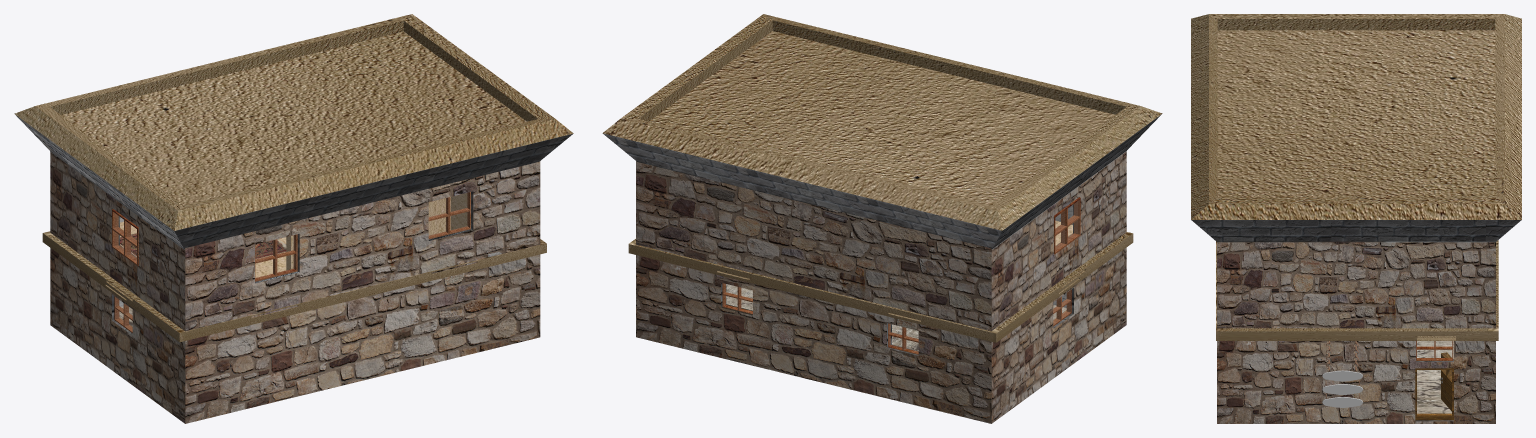
The model's file is EvCetinYazici.fbx.
3 views of the same model, side by side, from view 1: azimuth 30°, elevation 25°; view 2: azimuth 150°, elevation 25°; view 3: azimuth 270°, elevation 25° (orthographic). The views are drawn at different scales.
Parts seen in each view (by area): view 1: ev, Taban1, aratut, Tavan, polySurface124, polySurface127, polySurface126, halı; view 2: ev, Taban1, aratut, Taban, polySurface124; view 3: Taban1, ev, aratut, Taban, tabela1, kapı1, kapı2, polySurface121.
Boxes of the visible parts, x1=… form: ev: x1=50, y1=152, x2=540, y2=423; Taban1: x1=14, y1=14, x2=573, y2=249; aratut: x1=42, y1=231, x2=546, y2=342; Tavan: x1=120, y1=193, x2=467, y2=277; polySurface124: x1=112, y1=209, x2=138, y2=266; polySurface127: x1=255, y1=234, x2=297, y2=281; polySurface126: x1=428, y1=192, x2=470, y2=239; halı: x1=120, y1=233, x2=286, y2=258; ev: x1=636, y1=151, x2=1126, y2=423; Taban1: x1=602, y1=14, x2=1162, y2=249; aratut: x1=628, y1=232, x2=1133, y2=342; Taban: x1=726, y1=284, x2=1066, y2=350; polySurface124: x1=1054, y1=197, x2=1080, y2=254; Taban1: x1=1191, y1=14, x2=1521, y2=241; ev: x1=1217, y1=241, x2=1495, y2=423; aratut: x1=1216, y1=240, x2=1498, y2=340; Taban: x1=1417, y1=341, x2=1453, y2=413; tabela1: x1=1322, y1=370, x2=1363, y2=407; kapı1: x1=1415, y1=368, x2=1453, y2=420; kapı2: x1=1439, y1=352, x2=1451, y2=411; polySurface121: x1=1416, y1=341, x2=1453, y2=360.
Bounding box in the file's own units: 66.89 × 34.95 × 46.45.
